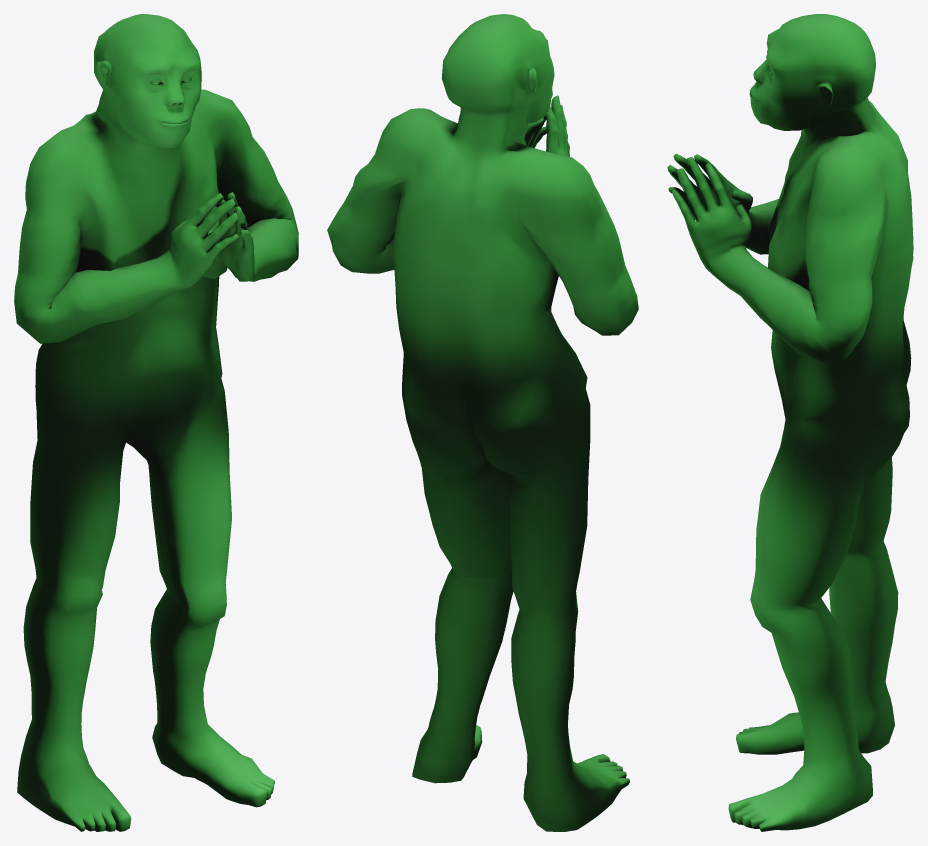
The model's file is h-floresiensis.glb.
3 views of the same model, side by side, from view 1: azimuth 30°, elevation 25°; view 2: azimuth 150°, elevation 25°; view 3: azimuth 270°, elevation 25° (orthographic).
Size of the model in its own units: 0.387 by 0.9967 by 0.289.
Materials: 1 (1 with a texture image).
